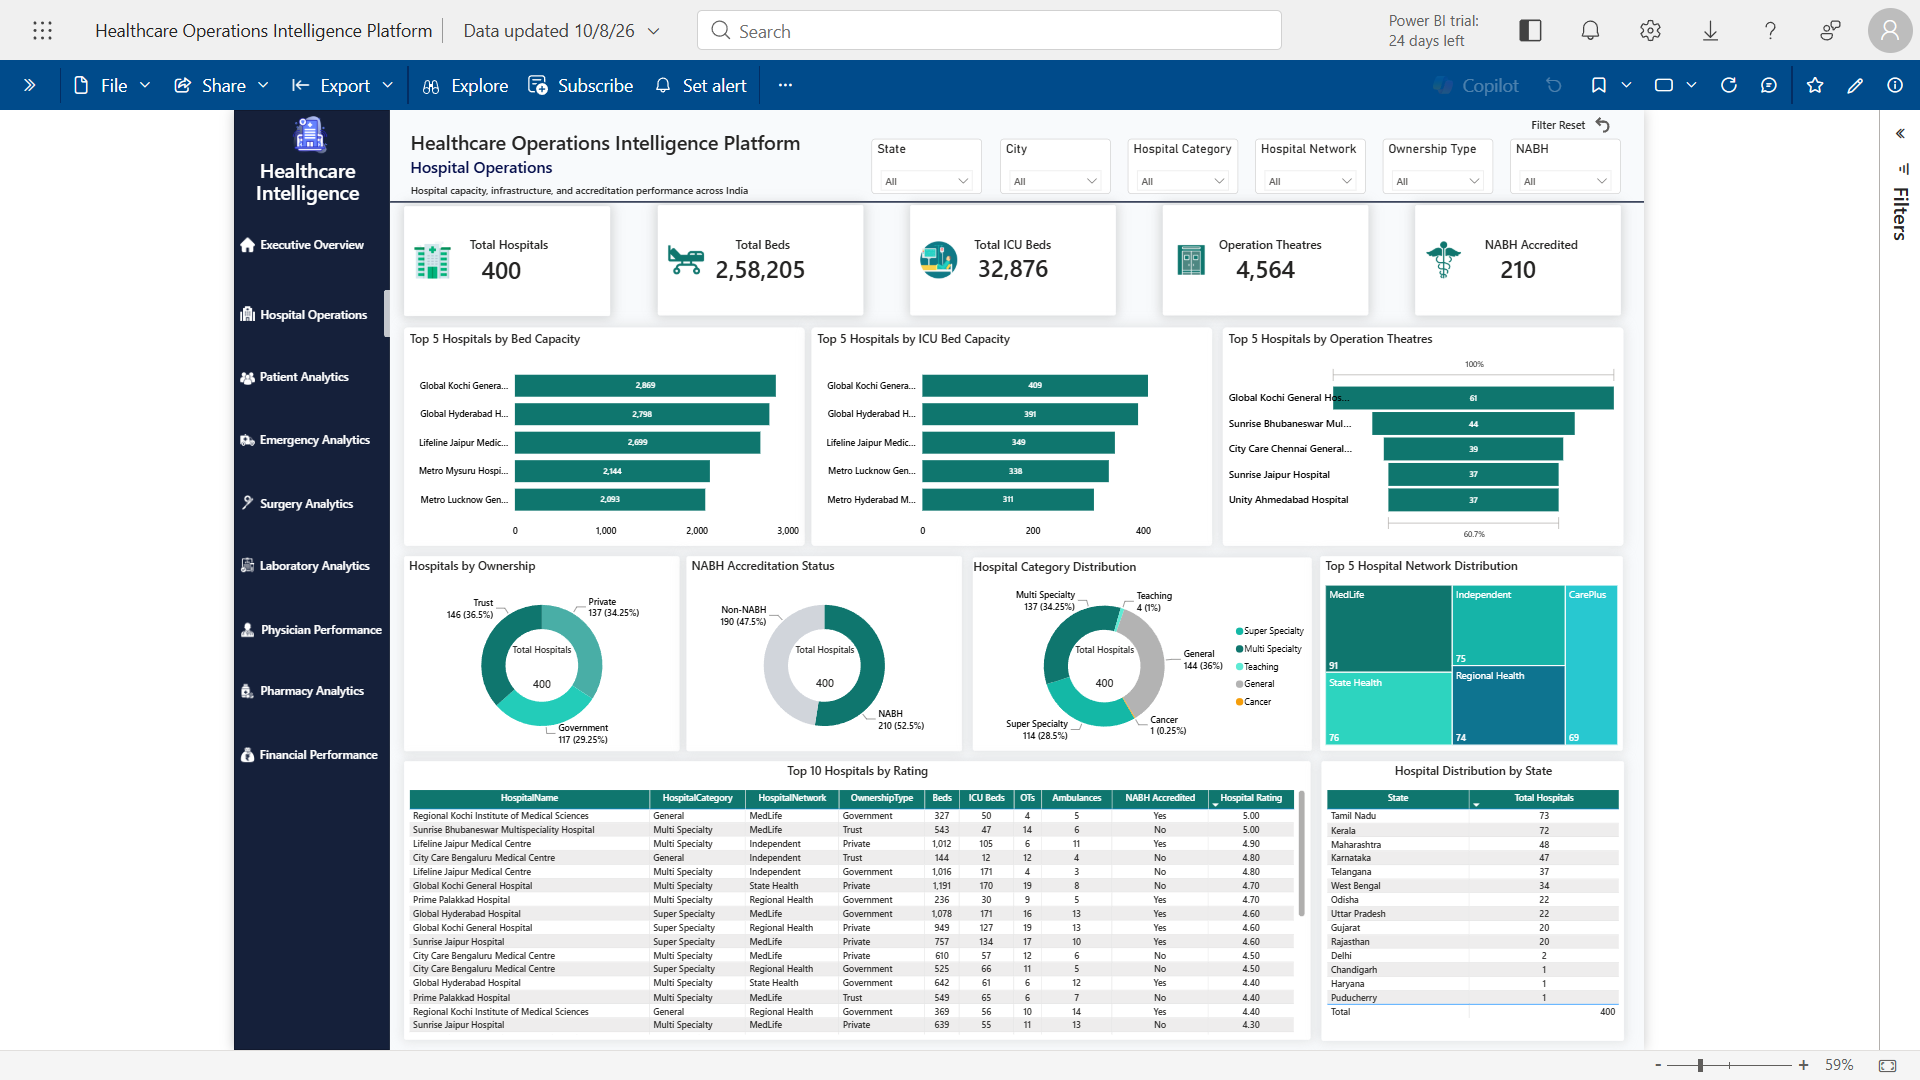

This screenshot's page, from the dashboard's own definition file:
{"tool":"powerbi","page":{"name":"Hospital Operations","canvas":[1920,1280],"ordinal":1},"visuals":[{"type":"shape","box":[0,0,212,1280],"z":0},{"type":"textbox","box":[3.3,59.1,200.8,46.2],"z":0,"group":"g1"},{"type":"cardVisual","title":"Total Revenue","fields":{"Data":["_Dax.Total Operation Theatres"]},"box":[1264.6,130,280.3,150],"z":0,"group":"g5"},{"type":"cardVisual","title":"Total Revenue","fields":{"Data":["_Dax.Total Beds"]},"box":[576.2,130.1,280.3,150],"z":0,"group":"g3"},{"type":"cardVisual","title":"Total Revenue","fields":{"Data":["_Dax.Total ICU Beds"]},"box":[920.4,130.2,280.3,150],"z":0,"group":"g4"},{"type":"cardVisual","title":"Total Revenue","fields":{"Data":["_Dax.NABH Accredited Hospitals"]},"box":[1608.8,130.2,280.3,150],"z":0,"group":"g6"},{"type":"donutChart","title":"Hospitals by Ownership","fields":{"Y":["_Dax.Private Ownership","_Dax.Government Ownership","_Dax.Trust Ownership"]},"box":[230.7,607.9,375,265.6],"z":0,"group":"g7"},{"type":"donutChart","title":"NABH Accreditation Status","fields":{"Y":["_Dax.NABH Accredited Hospitals","_Dax.Non-NABH Accredited Hospitals"]},"box":[615.6,608,375,265.6],"z":0,"group":"g8"},{"type":"donutChart","title":"Hospital Category Distribution","fields":{"Y":["_Dax.Super Specialty Hospital Category","_Dax.Multi Specialty Hospital Category","_Dax.Teaching Hospital Category","_Dax.General Hospital Category","_Dax.Cancer Hospital Category"]},"box":[1005.5,609.1,461.4,263.6],"z":0,"group":"g9"},{"type":"cardVisual","title":"Total Hospitals","fields":{"Data":["_Dax.Total Hospitals"]},"box":[1097.6,706.4,175.2,112.2],"z":500,"group":"g9"},{"type":"cardVisual","title":"Total Hospitals","fields":{"Data":["_Dax.Total Hospitals"]},"box":[364,707,110,115],"z":500,"group":"g7"},{"type":"cardVisual","title":"Total Hospitals","fields":{"Data":["_Dax.Total Hospitals"]},"box":[750.5,707.1,108.2,112.4],"z":500,"group":"g8"},{"type":"actionButton","box":[1847.7,4.6,40,30],"z":1000},{"type":"textbox","box":[5,87.4,190.4,46.2],"z":1000,"group":"g1"},{"type":"cardVisual","title":"Total Revenue","fields":{"Data":["_Dax.Total Hospitals"]},"box":[231.5,130.3,280.8,150],"z":1000,"group":"g2"},{"type":"image","box":[1278.3,169.3,50,71.5],"z":1000,"group":"g5"},{"type":"textbox","box":[212,20,586,46],"z":2000},{"type":"image","box":[589.9,169.4,50,71.5],"z":2000,"group":"g3"},{"type":"image","box":[934.1,169.5,50,71.5],"z":2000,"group":"g4"},{"type":"image","box":[1622.5,169.5,50,71.5],"z":2000,"group":"g6"},{"type":"image","box":[244.8,171.8,50.1,65.2],"z":2000,"group":"g2"},{"type":"textbox","box":[1757.7,4.6,90,31.5],"z":3000},{"type":"textbox","box":[314.6,165.7,118.8,31.2],"z":3000,"group":"g2"},{"type":"textbox","box":[1328.8,168,163.3,32.5],"z":3000,"group":"g5"},{"type":"textbox","box":[653.6,168.1,132.5,33.3],"z":3000,"group":"g3"},{"type":"textbox","box":[994.4,168.2,132.5,33.3],"z":3000,"group":"g4"},{"type":"textbox","box":[1687.9,168.2,159.3,36.3],"z":3000,"group":"g6"},{"type":"textbox","box":[231,95.4,477.7,30],"z":4000},{"type":"textbox","box":[17.1,167.1,178.6,31.4],"z":5000},{"type":"textbox","box":[24.2,261.7,169.5,31.6],"z":6000},{"type":"textbox","box":[224,58,223.8,46.4],"z":7000},{"type":"group","id":"g1","title":"Health Care","box":[3.3,59.1,200.8,74.6],"z":8000},{"type":"image","box":[79,9.1,50,50],"z":9000},{"type":"slicer","title":"State","fields":{"Values":["Dim_Hospital.State"]},"box":[868.8,38.8,150,75],"z":10000},{"type":"slicer","title":"City","fields":{"Values":["Dim_Hospital.City"]},"box":[1042.6,38.8,150,75],"z":11000},{"type":"slicer","title":"Hospital Category","fields":{"Values":["Dim_Hospital.HospitalCategory"]},"box":[1216.5,38.8,150,75],"z":12000},{"type":"slicer","title":"Hospital Network","fields":{"Values":["Dim_Hospital.HospitalNetwork"]},"box":[1390.4,38.8,150,75],"z":13000},{"type":"slicer","title":"Ownership Type","fields":{"Values":["Dim_Hospital.OwnershipType"]},"box":[1564.3,38.8,150,75],"z":14000},{"type":"shape","box":[212.1,119.3,1707.9,12],"z":15000},{"type":"textbox","box":[17,347.3,157.4,31.6],"z":16000},{"type":"textbox","box":[25.8,432.8,169.5,31.6],"z":17000},{"type":"textbox","box":[21,518.4,157.4,31.6],"z":18000},{"type":"textbox","box":[24,604,172.5,31.7],"z":19000},{"type":"textbox","box":[24.2,860.8,183.2,31.6],"z":20000},{"type":"textbox","box":[25,691.5,187,31.5],"z":21000},{"type":"textbox","box":[5,775.2,202.5,31.7],"z":22000},{"type":"group","id":"g2","title":"KPI 1","box":[231.5,130.3,280.8,150],"z":23000},{"type":"group","id":"g3","title":"KPI 2","box":[576.2,130.1,280.3,150],"z":24000},{"type":"group","id":"g4","title":"KPI 3","box":[920.4,130.2,280.3,150],"z":25000},{"type":"group","id":"g5","title":"KPI 4","box":[1264.6,130,280.3,150],"z":26000},{"type":"group","id":"g6","title":"KPI 5","box":[1608.8,130.2,280.3,150],"z":27000},{"type":"shape","box":[205,245,8.6,64.3],"z":28000},{"type":"image","box":[8.5,173,20,20],"z":29000},{"type":"image","box":[8.5,267.5,20,20],"z":30000},{"type":"image","box":[8.5,355,20,20],"z":31000},{"type":"image","box":[8.5,438,20,20],"z":32000},{"type":"image","box":[8.5,524,20,20],"z":33000},{"type":"image","box":[8,610,20,20],"z":34000},{"type":"image","box":[8,697.5,20,20],"z":35000},{"type":"image","box":[8,781,20,20],"z":36000},{"type":"image","box":[8,868,20,20],"z":37000},{"type":"clusteredBarChart","title":"Top 5 Hospitals by Bed Capacity","fields":{"Category":["Dim_Hospital.HospitalName"],"Y":["_Dax.Total Beds"]},"box":[231.1,296.7,545.6,297.8],"z":38000},{"type":"clusteredBarChart","title":"Top 5 Hospitals by ICU Bed Capacity","fields":{"Category":["Dim_Hospital.HospitalName"],"Y":["_Dax.Total ICU Beds"]},"box":[786.7,296.7,545.6,297.8],"z":39000},{"type":"funnel","title":"Top 5 Hospitals by Operation Theatres","fields":{"Category":["Dim_Hospital.HospitalName"],"Y":["Sum(Dim_Hospital.OperationTheatres)"]},"box":[1346.7,296.7,545.6,297.8],"z":40000},{"type":"group","id":"g7","title":"Patient Distribution","box":[230.7,607.9,375,265.6],"z":41000},{"type":"group","id":"g8","title":"Patient Distribution","box":[615.6,608,375,265.6],"z":42000},{"type":"group","id":"g9","title":"Patient Distribution","box":[1005.5,609.1,460.9,263.6],"z":43000},{"type":"treemap","title":"Top 5 Hospital Network Distribution","fields":{"Group":["Dim_Hospital.HospitalNetwork"],"Values":["_Dax.Total Hospitals"]},"box":[1480,608.2,411.8,264.5],"z":44000},{"type":"tableEx","title":"Top 10 Hospitals by Rating","fields":{"Values":["Dim_Hospital.HospitalName","Dim_Hospital.HospitalCategory","Dim_Hospital.HospitalNetwork","Dim_Hospital.OwnershipType","_Dax.Total Beds","_Dax.Total ICU Beds","_Dax.Total Operation Theatres","Sum(Dim_Hospital.Ambulances)","Dim_Hospital.NABHAccredited","Sum(Dim_Hospital.HospitalRating)"]},"box":[231.9,887.2,1234,379.1],"z":45000},{"type":"tableEx","title":"Hospital Distribution by State","fields":{"Values":["Dim_Hospital.State","_Dax.Total Hospitals"]},"box":[1481.1,886.5,412.2,381.1],"z":46000},{"type":"slicer","title":"NABH","fields":{"Values":["Dim_Hospital.NABHAccredited"]},"box":[1738.1,38.8,150,75],"z":47000}]}

Visuals, with their boxes on the page's 1920x1280 design canvas (x1, y1, x2, y2). These are canvas units, not pixel positions in the 1920x1080 screenshot, which may show the page scaled, cropped or inside an application window:
shape: bbox(0, 0, 212, 1280)
textbox: bbox(3, 59, 204, 105)
"Total Revenue" cardVisual: bbox(1265, 130, 1545, 280)
"Total Revenue" cardVisual: bbox(576, 130, 856, 280)
"Total Revenue" cardVisual: bbox(920, 130, 1201, 280)
"Total Revenue" cardVisual: bbox(1609, 130, 1889, 280)
"Hospitals by Ownership" donutChart: bbox(231, 608, 606, 874)
"NABH Accreditation Status" donutChart: bbox(616, 608, 991, 874)
"Hospital Category Distribution" donutChart: bbox(1006, 609, 1467, 873)
"Total Hospitals" cardVisual: bbox(1098, 706, 1273, 819)
"Total Hospitals" cardVisual: bbox(364, 707, 474, 822)
"Total Hospitals" cardVisual: bbox(750, 707, 859, 820)
actionButton: bbox(1848, 5, 1888, 35)
textbox: bbox(5, 87, 195, 134)
"Total Revenue" cardVisual: bbox(232, 130, 512, 280)
image: bbox(1278, 169, 1328, 241)
textbox: bbox(212, 20, 798, 66)
image: bbox(590, 169, 640, 241)
image: bbox(934, 170, 984, 241)
image: bbox(1622, 170, 1672, 241)
image: bbox(245, 172, 295, 237)
textbox: bbox(1758, 5, 1848, 36)
textbox: bbox(315, 166, 433, 197)
textbox: bbox(1329, 168, 1492, 200)
textbox: bbox(654, 168, 786, 201)
textbox: bbox(994, 168, 1127, 202)
textbox: bbox(1688, 168, 1847, 204)
textbox: bbox(231, 95, 709, 125)
textbox: bbox(17, 167, 196, 198)
textbox: bbox(24, 262, 194, 293)
textbox: bbox(224, 58, 448, 104)
"Health Care" group: bbox(3, 59, 204, 134)
image: bbox(79, 9, 129, 59)
"State" slicer: bbox(869, 39, 1019, 114)
"City" slicer: bbox(1043, 39, 1193, 114)
"Hospital Category" slicer: bbox(1216, 39, 1366, 114)
"Hospital Network" slicer: bbox(1390, 39, 1540, 114)
"Ownership Type" slicer: bbox(1564, 39, 1714, 114)
shape: bbox(212, 119, 1920, 131)
textbox: bbox(17, 347, 174, 379)
textbox: bbox(26, 433, 195, 464)
textbox: bbox(21, 518, 178, 550)
textbox: bbox(24, 604, 196, 636)
textbox: bbox(24, 861, 207, 892)
textbox: bbox(25, 692, 212, 723)
textbox: bbox(5, 775, 208, 807)
"KPI 1" group: bbox(232, 130, 512, 280)
"KPI 2" group: bbox(576, 130, 856, 280)
"KPI 3" group: bbox(920, 130, 1201, 280)
"KPI 4" group: bbox(1265, 130, 1545, 280)
"KPI 5" group: bbox(1609, 130, 1889, 280)
shape: bbox(205, 245, 214, 309)
image: bbox(8, 173, 28, 193)
image: bbox(8, 268, 28, 288)
image: bbox(8, 355, 28, 375)
image: bbox(8, 438, 28, 458)
image: bbox(8, 524, 28, 544)
image: bbox(8, 610, 28, 630)
image: bbox(8, 698, 28, 718)
image: bbox(8, 781, 28, 801)
image: bbox(8, 868, 28, 888)
"Top 5 Hospitals by Bed Capacity" clusteredBarChart: bbox(231, 297, 777, 594)
"Top 5 Hospitals by ICU Bed Capacity" clusteredBarChart: bbox(787, 297, 1332, 594)
"Top 5 Hospitals by Operation Theatres" funnel: bbox(1347, 297, 1892, 594)
"Patient Distribution" group: bbox(231, 608, 606, 874)
"Patient Distribution" group: bbox(616, 608, 991, 874)
"Patient Distribution" group: bbox(1006, 609, 1466, 873)
"Top 5 Hospital Network Distribution" treemap: bbox(1480, 608, 1892, 873)
"Top 10 Hospitals by Rating" tableEx: bbox(232, 887, 1466, 1266)
"Hospital Distribution by State" tableEx: bbox(1481, 886, 1893, 1268)
"NABH" slicer: bbox(1738, 39, 1888, 114)
